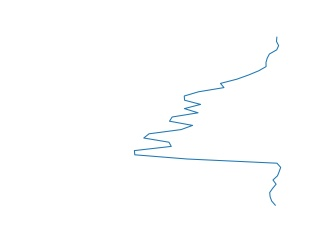proximalDeepseaFan: (127, 34, 287, 209)
